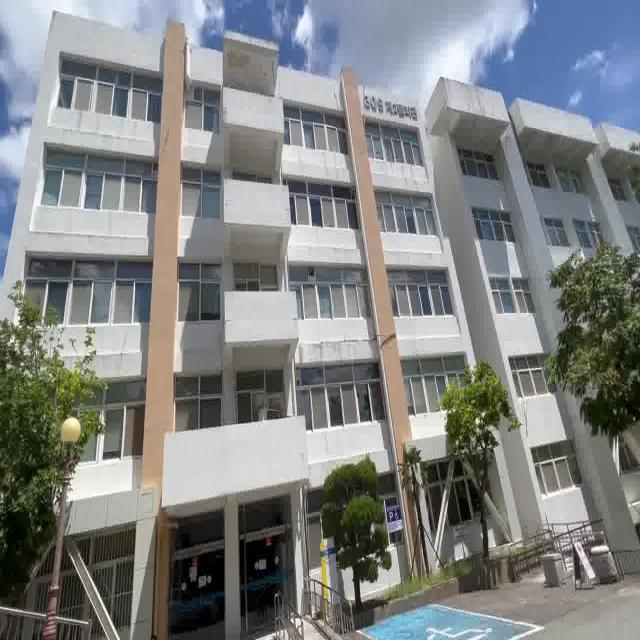building: (106, 27, 316, 623)
